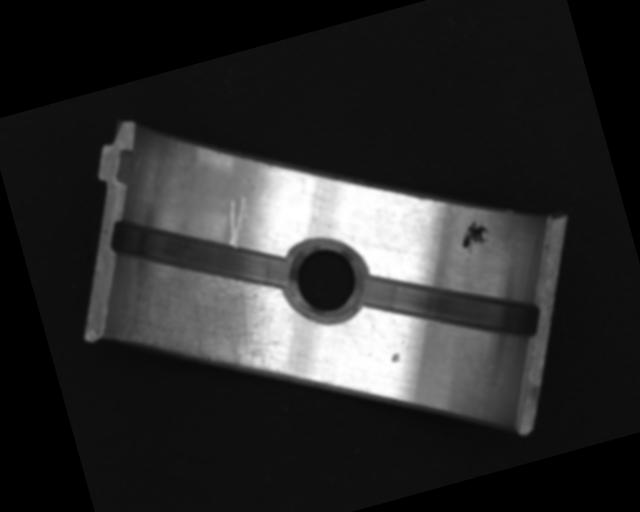blot: (454, 216, 493, 255)
bruise: (389, 351, 402, 363)
gap: (100, 176, 295, 329), (356, 234, 549, 378)
hole: (279, 237, 369, 328)
nick: (216, 192, 259, 249)
scratch: (95, 224, 298, 410)
